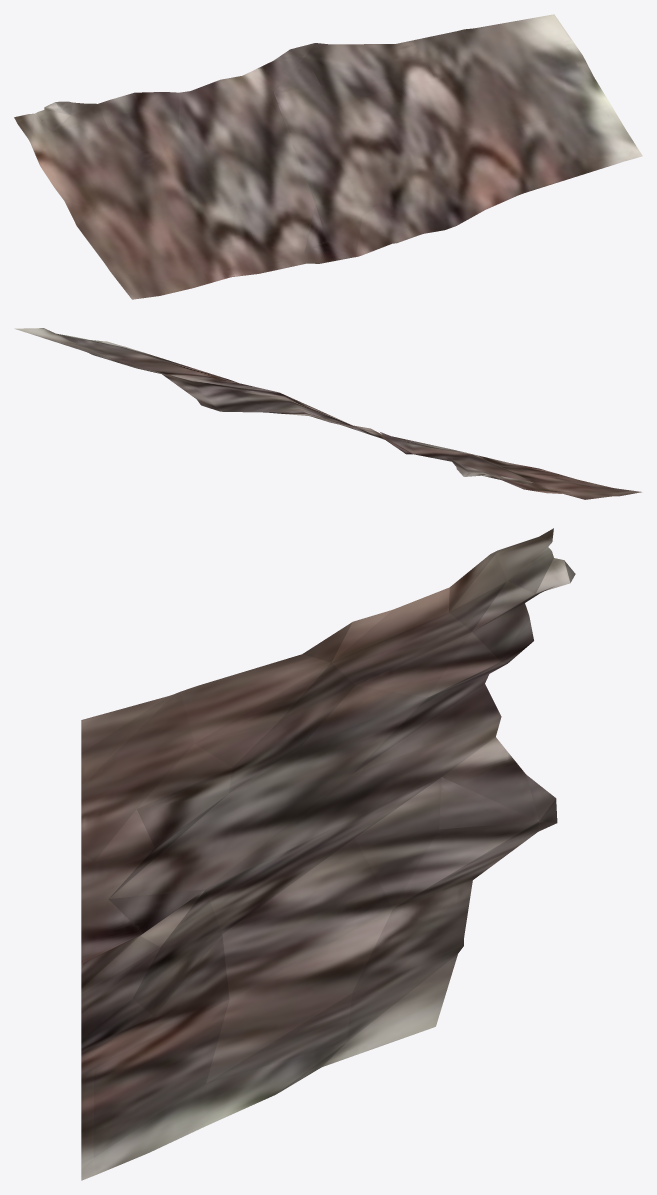
3 views of the same model, one above another, from view 1: azimuth 30°, elevation 25°; view 2: azimuth 150°, elevation 25°; view 3: azimuth 270°, elevation 25° (orthographic). The views are drawn at different scales.
Bounding box in the file's own units: 1.67 × 0.3387 × 0.7018.
1 material, 1 textured.
